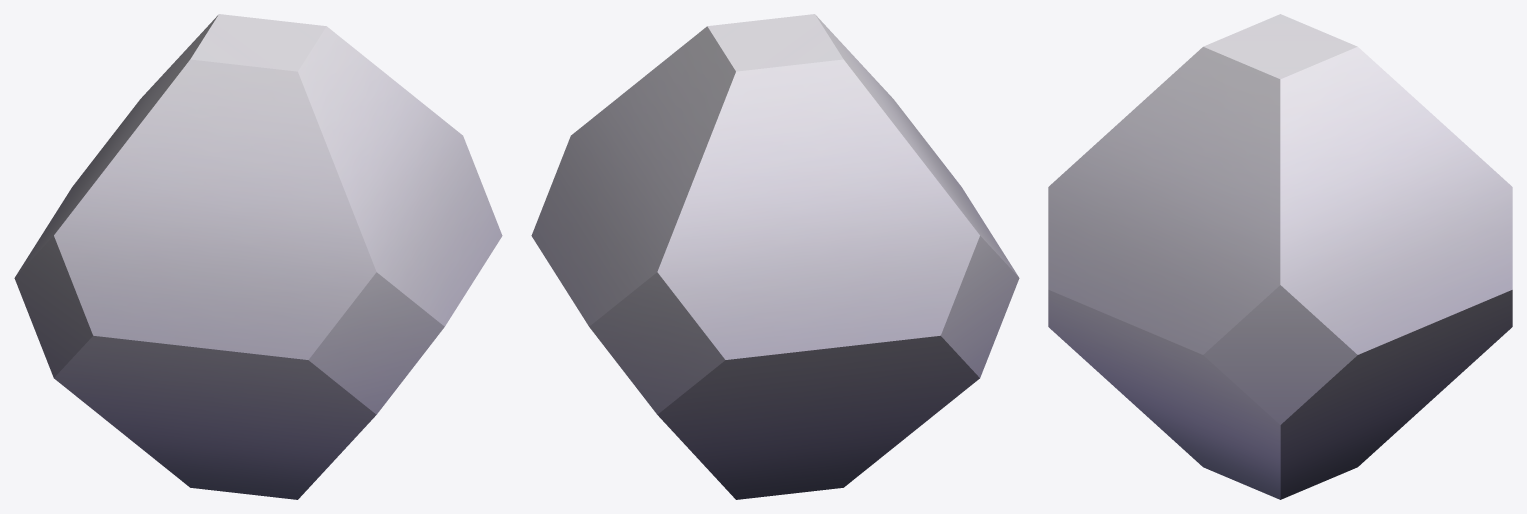
File: gem5.fbx
3 renders of one model, left to right at view 1: azimuth 30°, elevation 25°; view 2: azimuth 150°, elevation 25°; view 3: azimuth 270°, elevation 25°, orthographic.
Parts seen in each view (by area): view 1: Gem5; view 2: Gem5; view 3: Gem5.
Part boxes in pixels (box(x1,y1,x2,y2)): Gem5: box(14, 14, 502, 499); Gem5: box(531, 14, 1019, 499); Gem5: box(1048, 14, 1512, 499).
Bounding box in the file's own units: 1 × 1 × 1.
